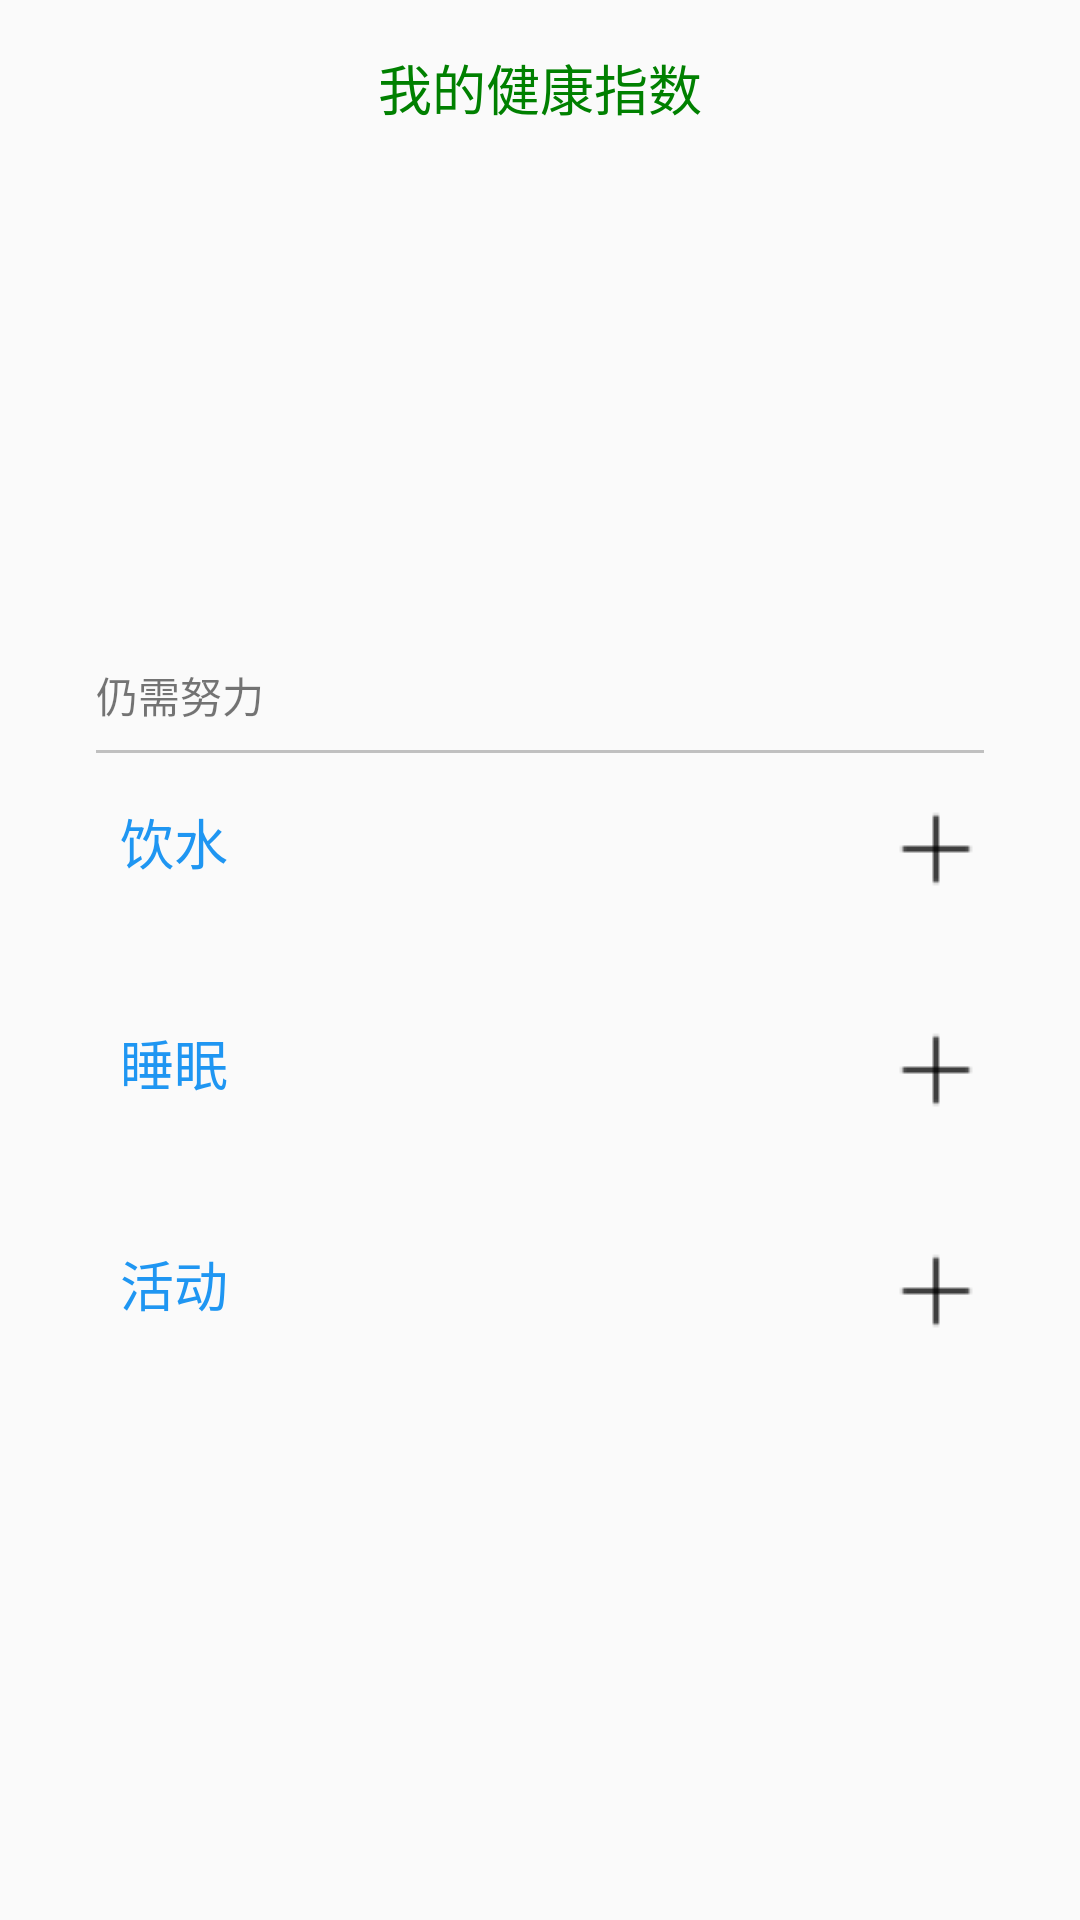

Icons on this 1080×1920 Android screen, each with the point to tap as point (x, y):
add: point (936, 849), point (936, 1070), point (936, 1291)
